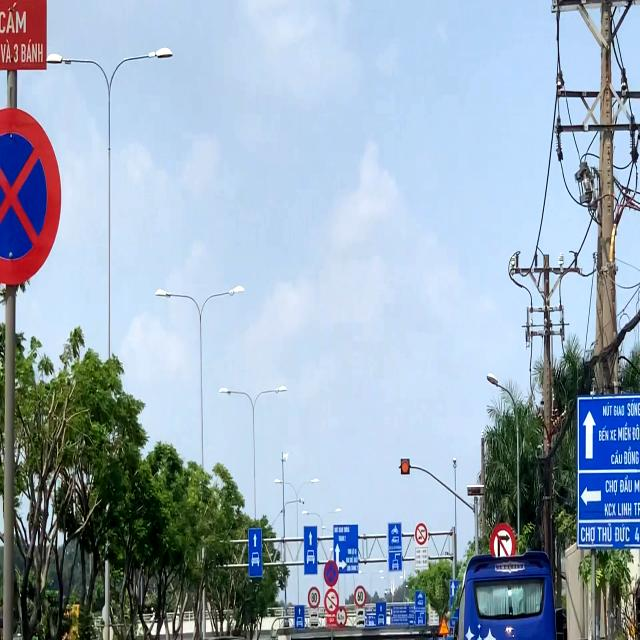P.123b: (488, 522, 514, 562)
P.127: (306, 583, 323, 610), (354, 585, 367, 609)
P.130: (0, 100, 63, 290), (323, 560, 339, 587)
